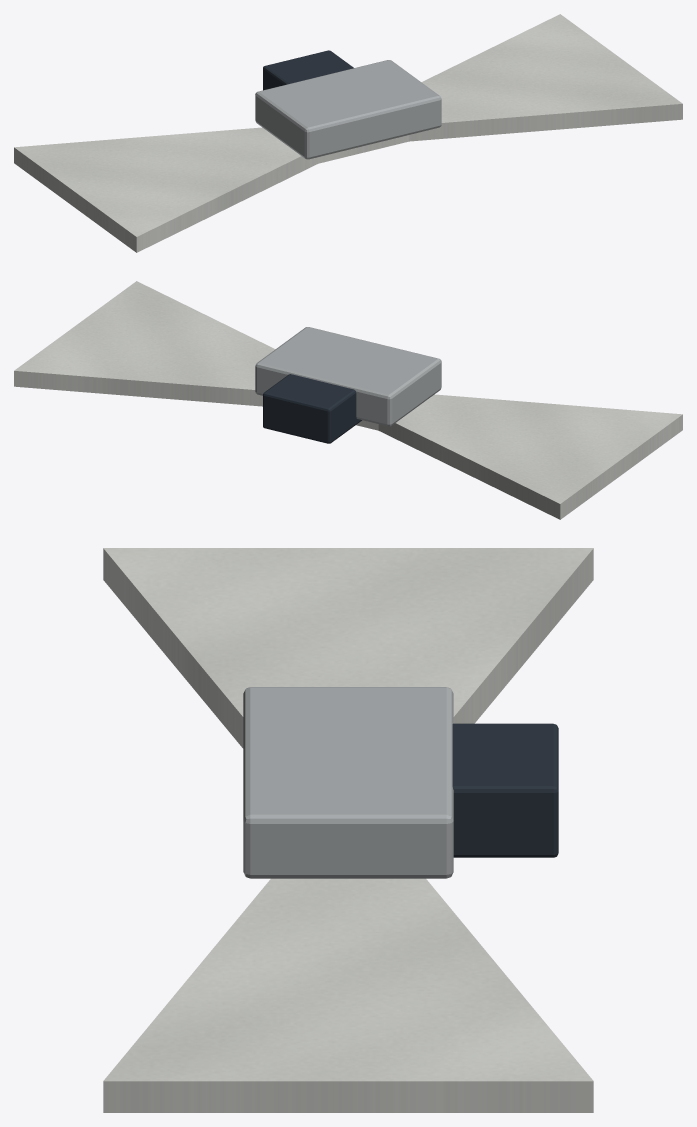
Rendered from rover_ground_radar.glb.
3 renders of one model, top to bottom at view 1: azimuth 30°, elevation 25°; view 2: azimuth 150°, elevation 25°; view 3: azimuth 270°, elevation 25°, orthographic. The views are drawn at different scales.
Parts seen in each view (by area): view 1: Radar_Bowtie, Radar_Mount, Radar_Connector; view 2: Radar_Bowtie, Radar_Mount, Radar_Connector; view 3: Radar_Bowtie, Radar_Mount, Radar_Connector.
Part boxes in pixels (bbox=[...]): Radar_Bowtie: bbox=[14, 14, 682, 252]; Radar_Mount: bbox=[255, 60, 441, 159]; Radar_Connector: bbox=[263, 50, 353, 90]; Radar_Bowtie: bbox=[14, 281, 682, 519]; Radar_Mount: bbox=[255, 327, 441, 426]; Radar_Connector: bbox=[263, 374, 361, 443]; Radar_Bowtie: bbox=[103, 548, 593, 1112]; Radar_Mount: bbox=[243, 687, 453, 878]; Radar_Connector: bbox=[452, 723, 558, 857].
Size of the model in its own units: 0.72 by 0.06 by 0.28.
Materials: 3 (1 with a texture image).
